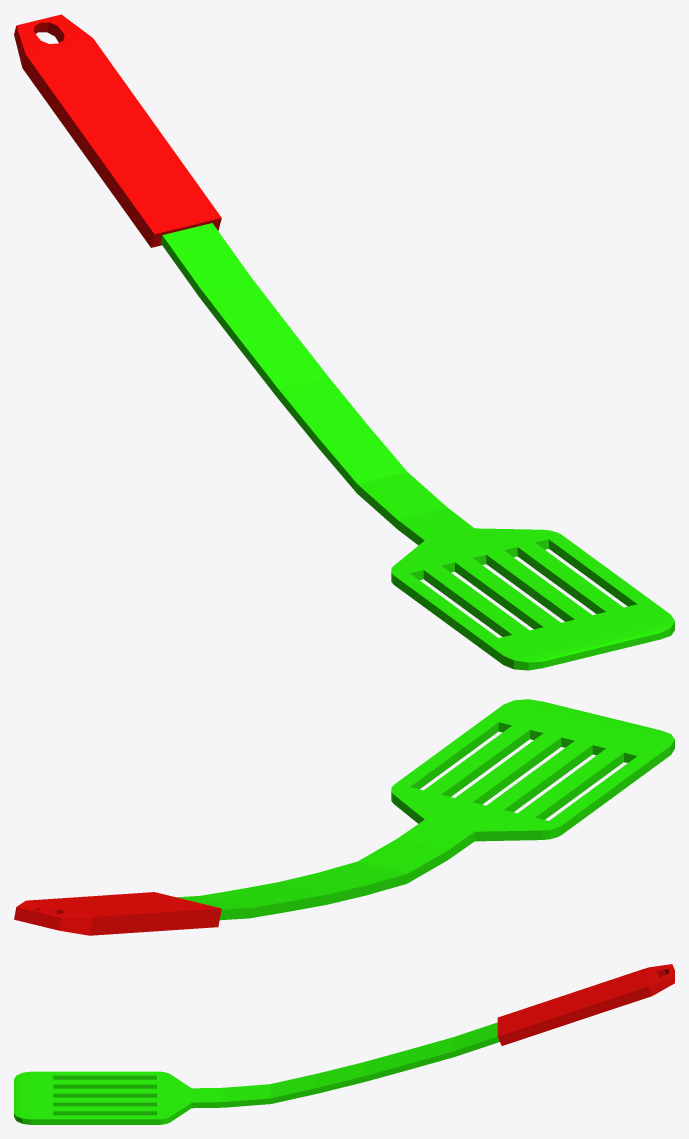
Rendered from spatule.fbx.
The picture shows the model from 3 angles, top to bottom: view 1: azimuth 30°, elevation 25°; view 2: azimuth 150°, elevation 25°; view 3: azimuth 270°, elevation 25°; orthographic projection. The views are drawn at different scales.
Visible parts, largest first — view 1: spatule; view 2: spatule; view 3: spatule.
Boxes of the visible parts, x1=… form: spatule: x1=14, y1=14, x2=674, y2=670; spatule: x1=14, y1=699, x2=674, y2=935; spatule: x1=14, y1=964, x2=674, y2=1124.
Size of the model in its own units: 268 by 341 by 1563.
